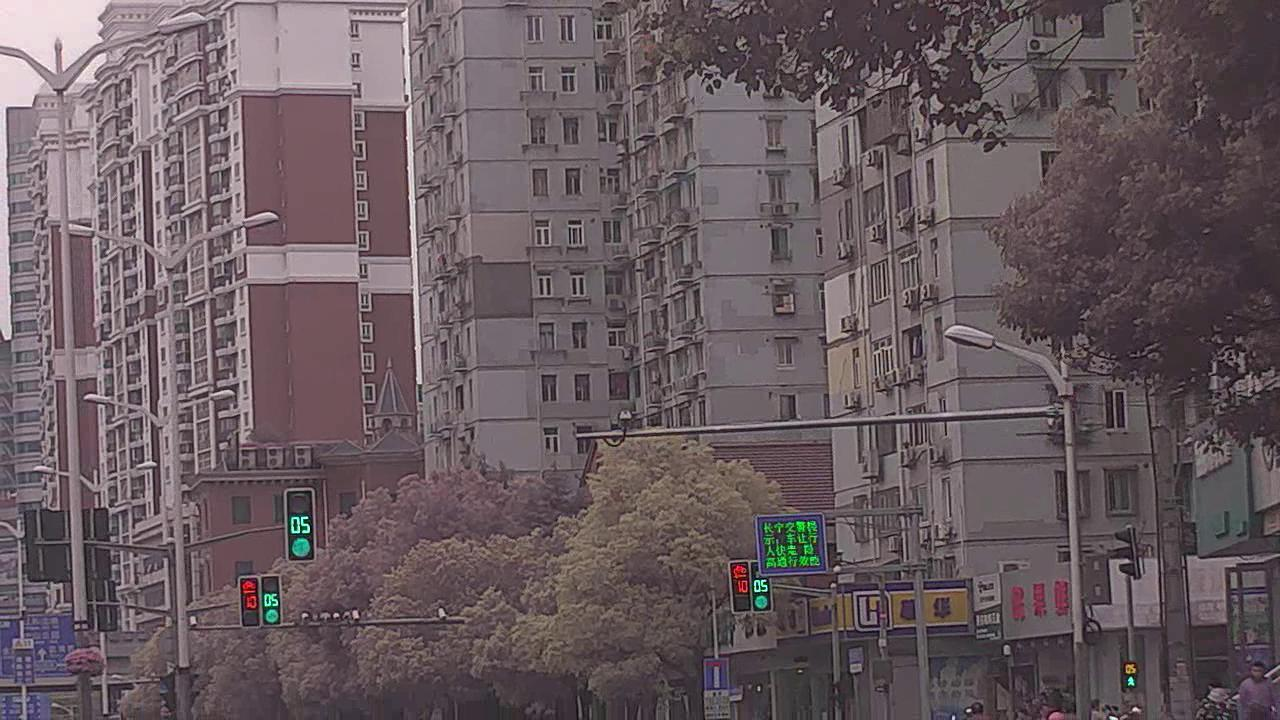traffic_light: (282, 484, 320, 565), (236, 578, 260, 628), (731, 562, 753, 615), (261, 571, 281, 626), (753, 560, 770, 609)
